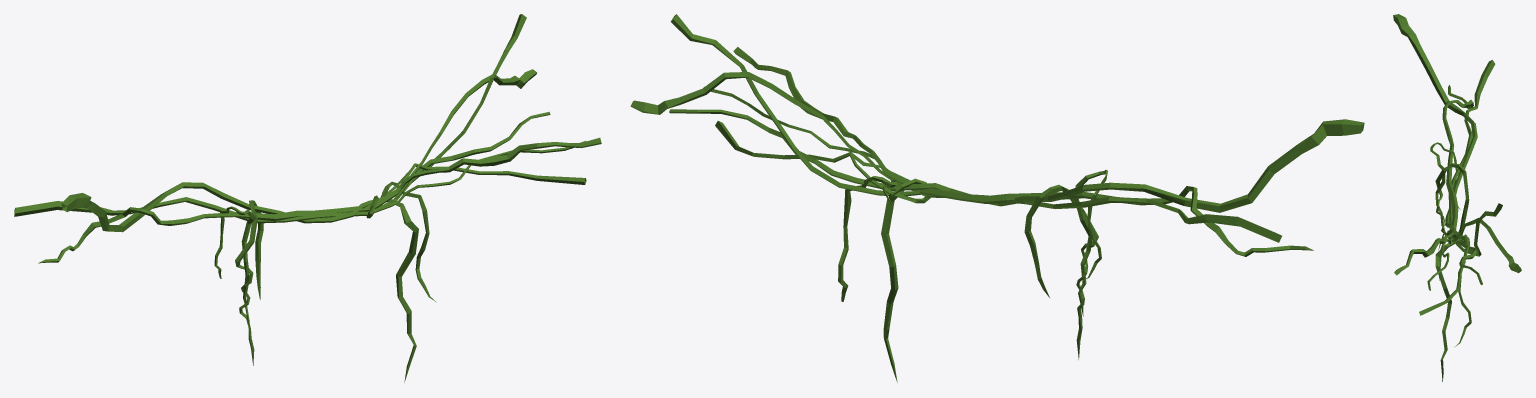
File: ZLPC_Plant_Vine_B_1.FBX
3 renders of one model, left to right at view 1: azimuth 30°, elevation 25°; view 2: azimuth 150°, elevation 25°; view 3: azimuth 270°, elevation 25°, orthographic. The views are drawn at different scales.
Parts seen in each view (by area): view 1: ZLPC_Plant_Vine_B_1; view 2: ZLPC_Plant_Vine_B_1; view 3: ZLPC_Plant_Vine_B_1.
Boxes of the visible parts, box(x1,y1,x2,y2) form: ZLPC_Plant_Vine_B_1: box(14, 14, 601, 382); ZLPC_Plant_Vine_B_1: box(630, 14, 1364, 382); ZLPC_Plant_Vine_B_1: box(1393, 14, 1521, 381).
Bounding box in the file's own units: 1174 × 623 × 303.
